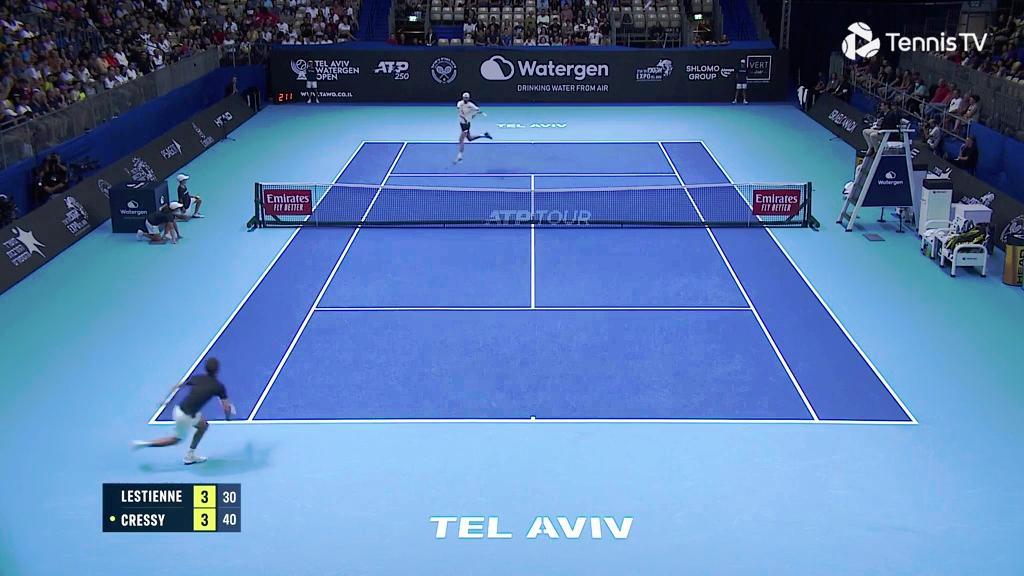tennis-court: (147, 141, 919, 424)
